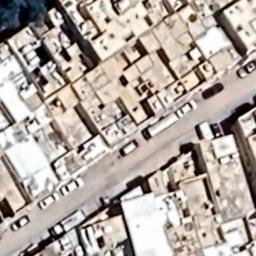others: (139, 112, 180, 142)
sedan: (59, 175, 86, 197), (36, 190, 62, 212), (200, 80, 226, 100), (176, 99, 200, 119), (8, 214, 32, 233), (235, 59, 256, 79)
van: (119, 139, 139, 158)
